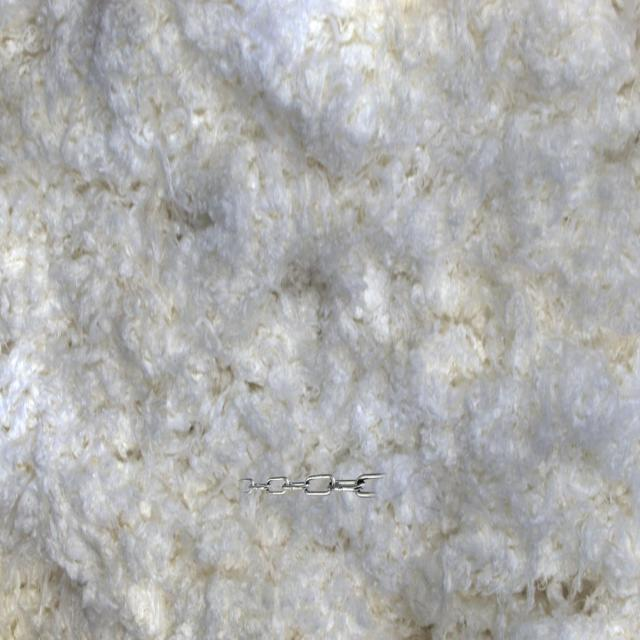dust: (226, 426, 399, 575)
